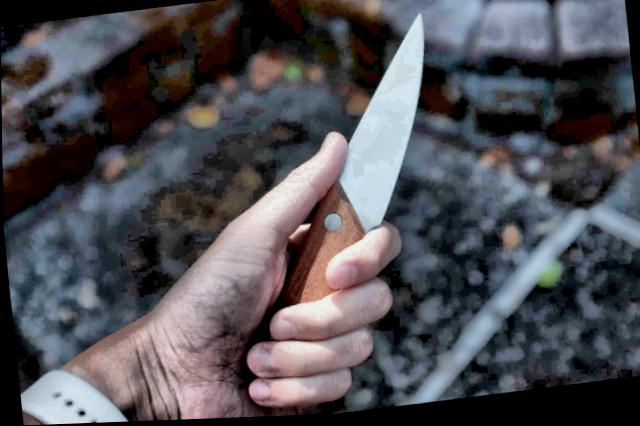knife: (231, 5, 464, 350)
